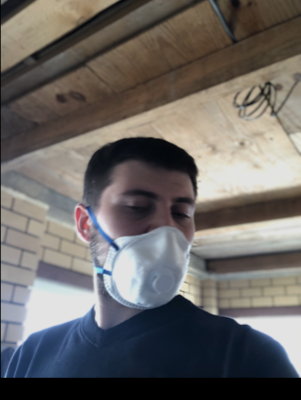with_mask: (98, 181, 195, 306)
